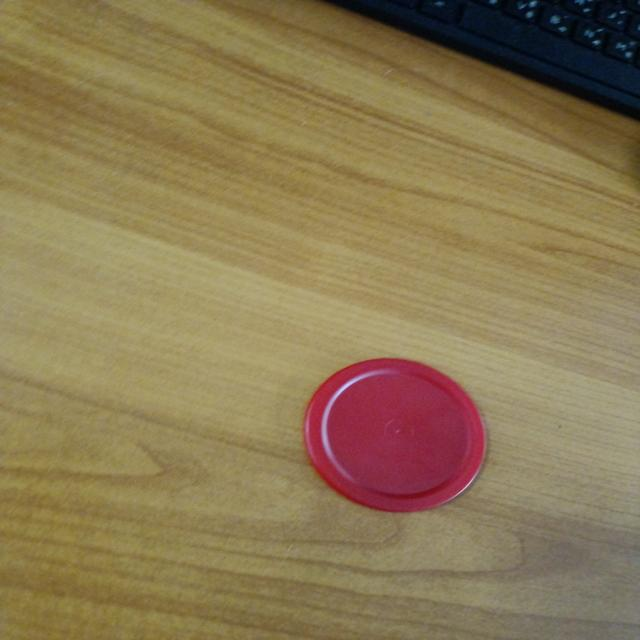chip: (296, 355, 490, 517)
